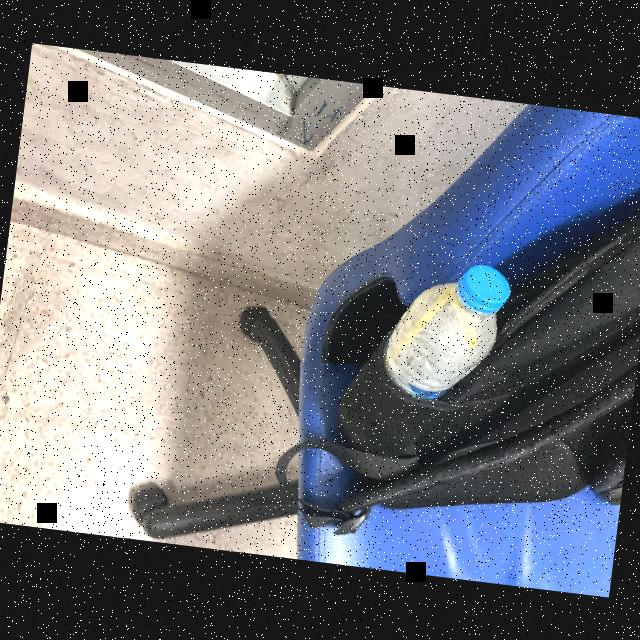plastic_bottle: (371, 248, 516, 414)
